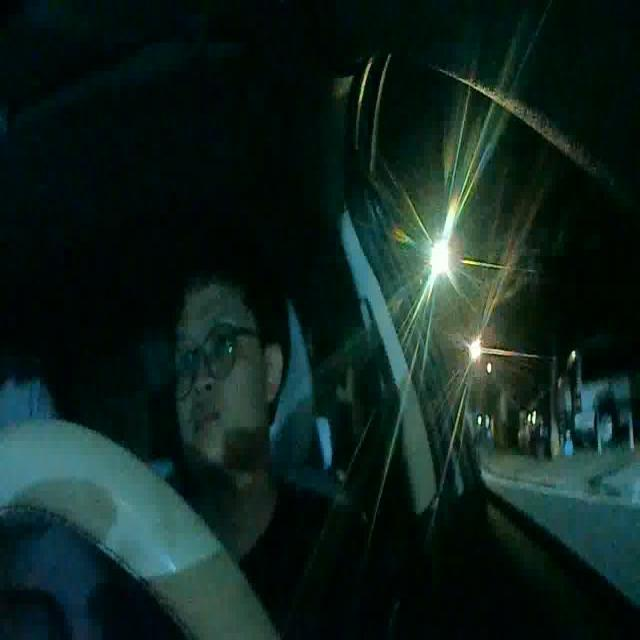Attentive: (170, 233, 295, 468)
Eye-Open: (177, 342, 202, 372), (214, 328, 239, 358)
Normal: (191, 406, 222, 436)
